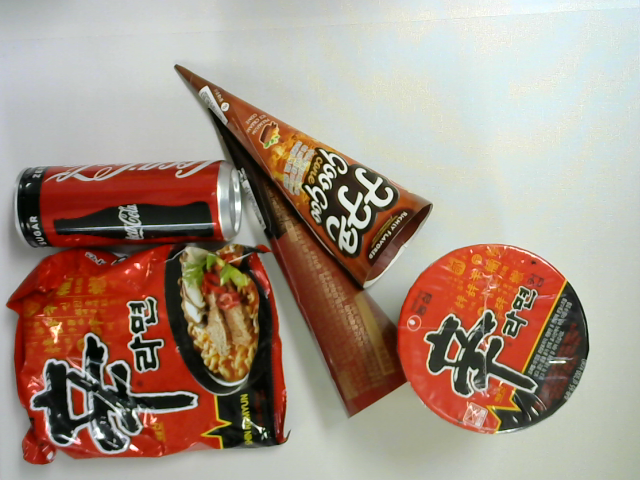Coca_Cola_Zero_Can_250ml: (10, 158, 248, 252)
GooGoo_Cone_CVS: (173, 59, 436, 288)
Sinramen: (6, 239, 286, 472)
Sinramen_small: (396, 241, 595, 437)
World_Cone_Choco: (212, 107, 422, 422)
